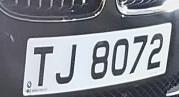0: (111, 35, 131, 78)
2: (147, 29, 165, 73)
7: (132, 33, 148, 73)
8: (90, 36, 110, 84)
J: (52, 42, 80, 87)
T: (30, 40, 56, 92)
